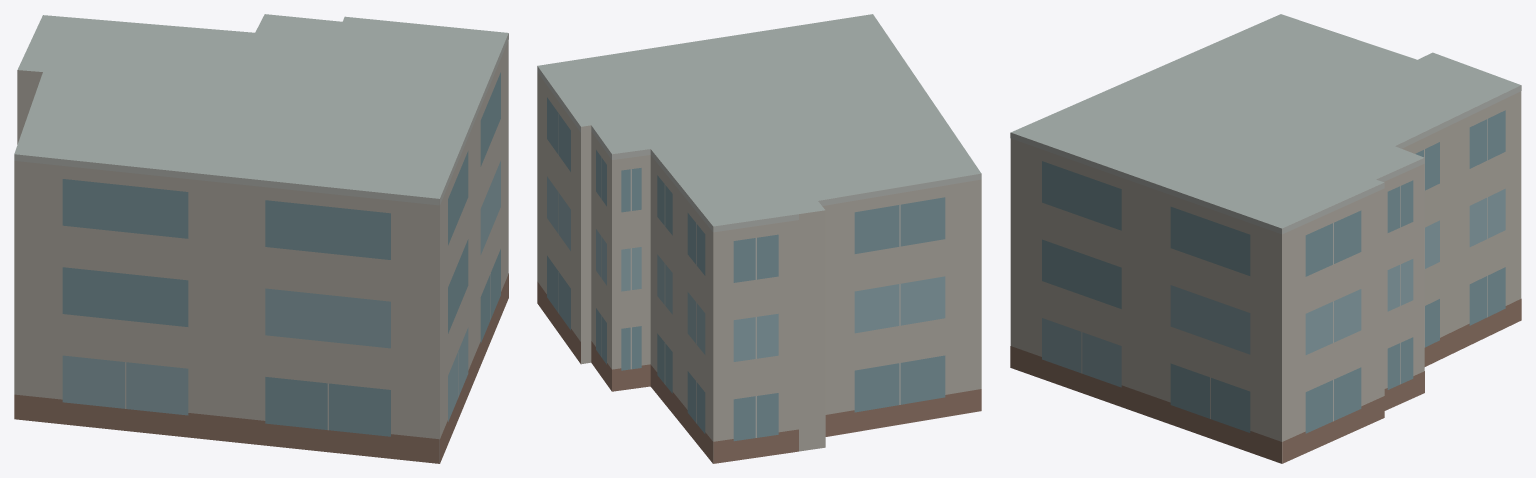
Rendered from survey-upis-32534693.glb.
3 renders of one model, left to right at view 1: azimuth 30°, elevation 25°; view 2: azimuth 150°, elevation 25°; view 3: azimuth 270°, elevation 25°, orthographic. The views are drawn at different scales.
Parts seen in each view (by area): view 1: survey-upis-32534693.tmp; view 2: survey-upis-32534693.tmp; view 3: survey-upis-32534693.tmp.
Boxes of the visible parts, box(x1,y1,x2,y2) form: survey-upis-32534693.tmp: box(14, 14, 508, 463); survey-upis-32534693.tmp: box(537, 14, 981, 463); survey-upis-32534693.tmp: box(1010, 14, 1521, 463).
Bounding box in the file's own units: 19.18 × 9.8 × 19.29.
